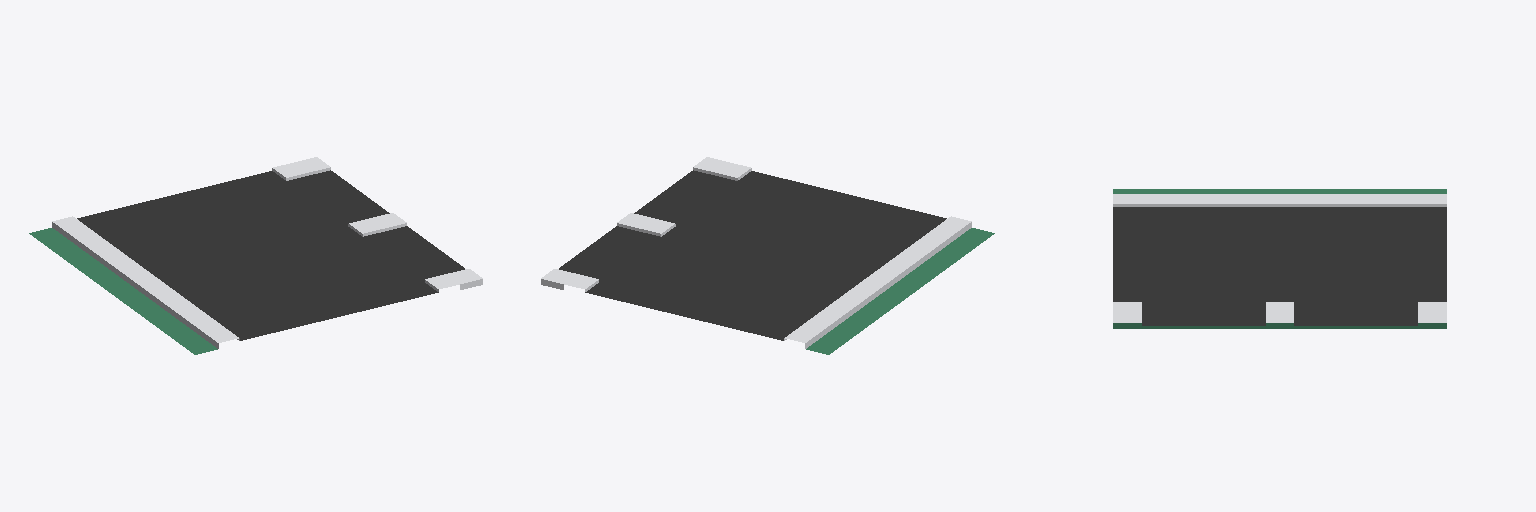
The model's file is roadPitGarage.obj.
3 views of the same model, side by side, from view 1: azimuth 30°, elevation 25°; view 2: azimuth 150°, elevation 25°; view 3: azimuth 270°, elevation 25° (orthographic).
Parts seen in each view (by area): view 1: roadPitGarage; view 2: roadPitGarage; view 3: roadPitGarage.
Part boxes in pixels (left/top/right/bottom): roadPitGarage: left=29, top=157, right=482, bottom=354; roadPitGarage: left=541, top=157, right=994, bottom=354; roadPitGarage: left=1113, top=189, right=1446, bottom=328.
Bounding box in the file's own units: 10 × 0.2 × 10.